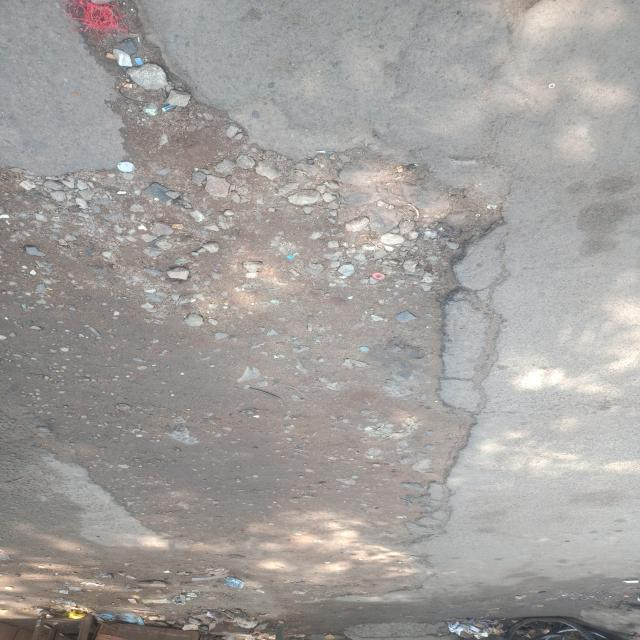potholes: (1, 0, 516, 608)
